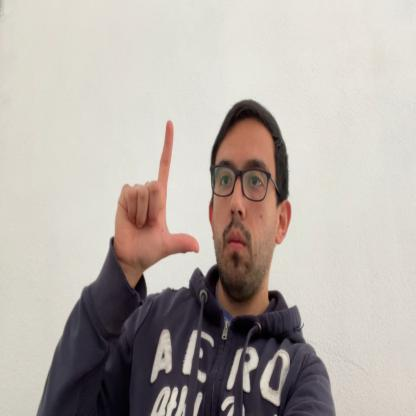L: (115, 119, 199, 268)
